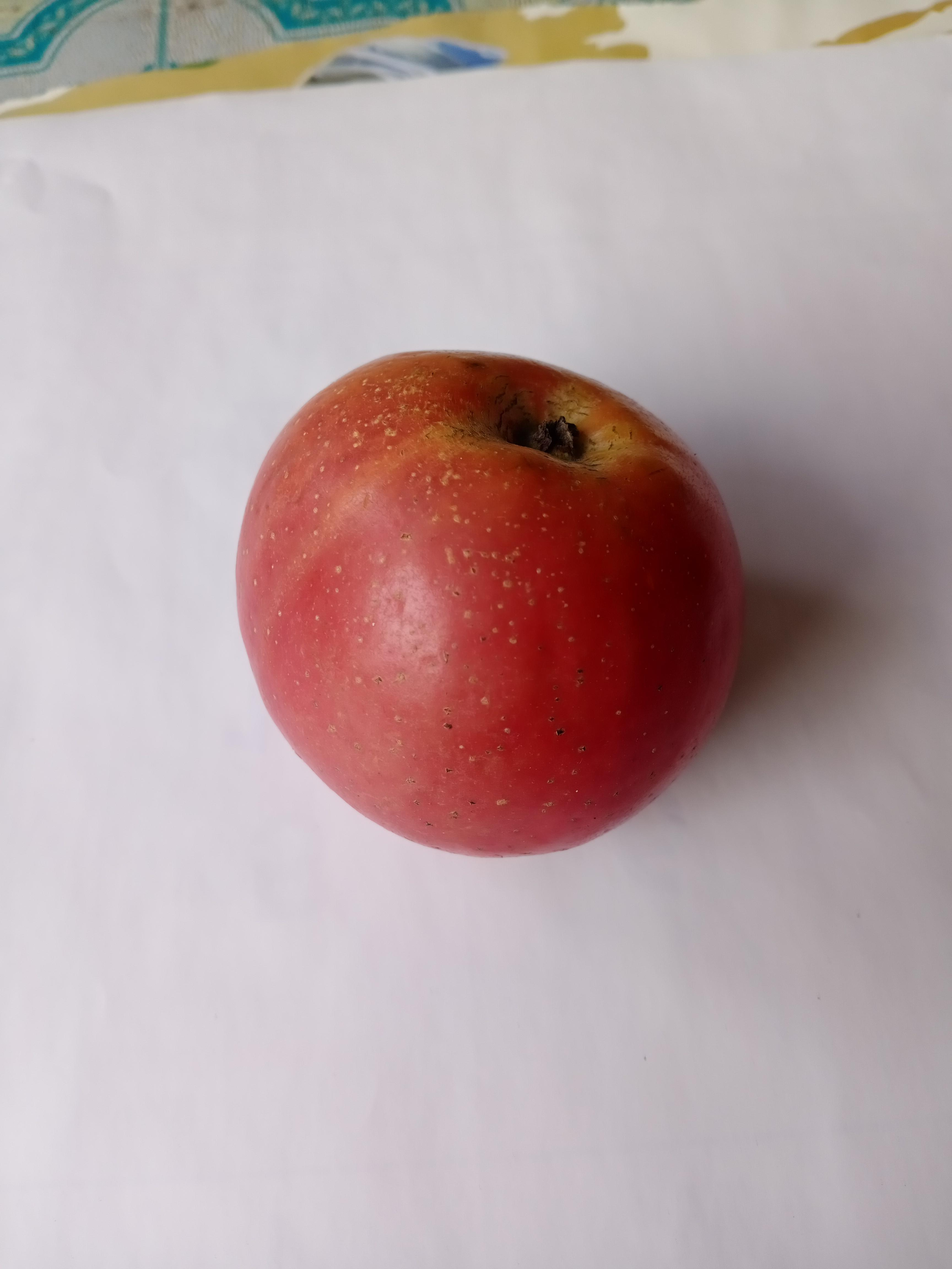Apple Ripe: (236, 352, 743, 855)
